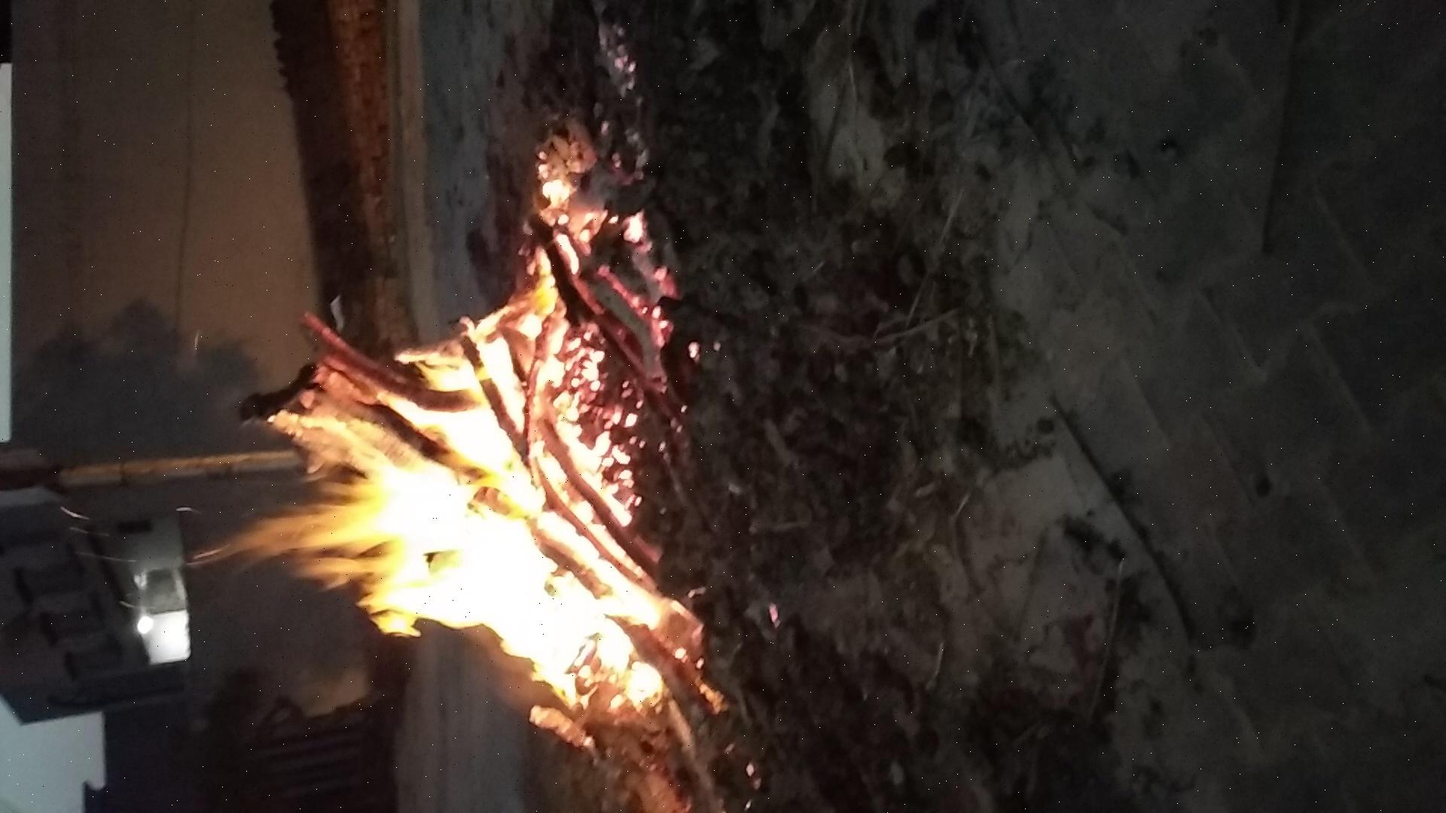fire: (173, 107, 902, 367)
